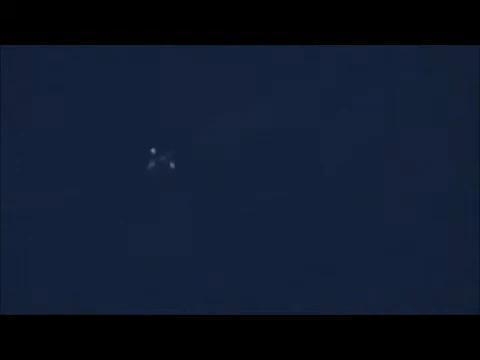Plane: (122, 137, 191, 182)
